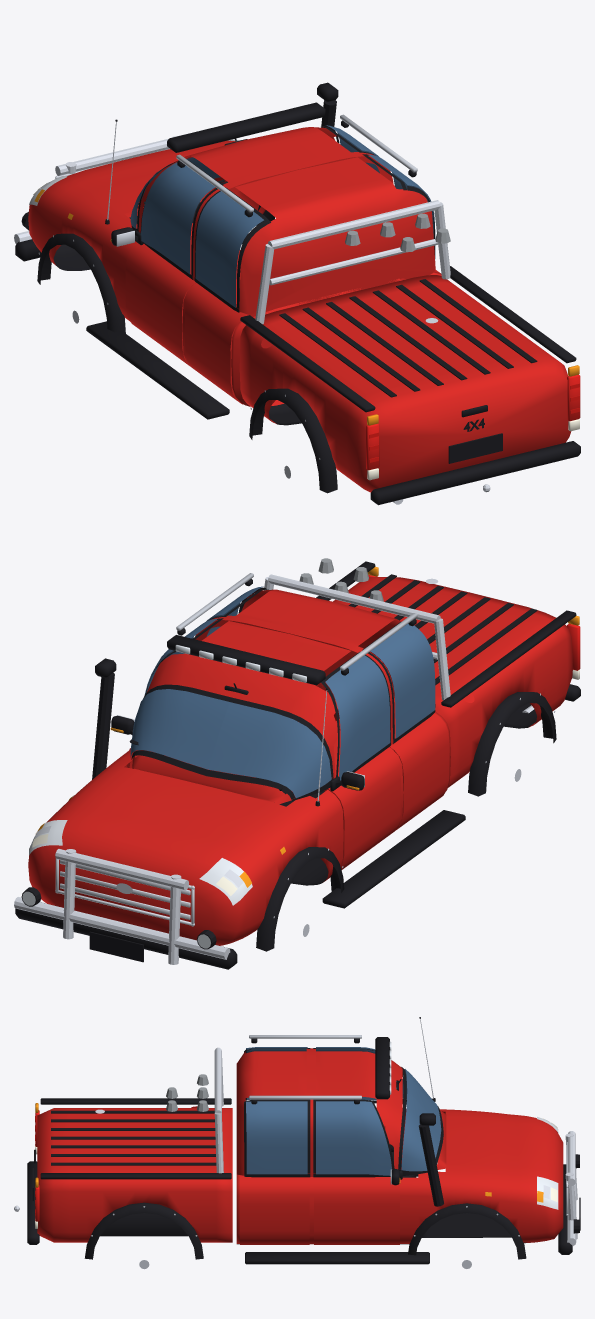
Rendered from veh_hilux.fbx.
3 views of the same model, one above another, from view 1: azimuth 30°, elevation 25°; view 2: azimuth 150°, elevation 25°; view 3: azimuth 270°, elevation 25° (orthographic). The views are drawn at different scales.
Parts seen in each view (by area): view 1: Body, Detail, Door_FL, Door_RL, Door_FL_Glass, Door_RL_Glass, BrakeLights, Var_Load_gas_Tray; view 2: Body, Detail, Glass, Door_FL, Door_FL_Glass, Door_RL, Door_RL_Glass, HeadLights, Var_Load_gas_Tray; view 3: Body, Detail, Door_FR, Door_RR, Door_FR_Glass, Door_RR_Glass, Glass, HeadLights, Var_Load_gas_Tray.
Boxes of the visible parts, x1,y1,x2,y2 form: Body: (28, 127, 571, 492); Detail: (14, 82, 580, 505); Door_FL: (125, 160, 240, 366); Door_RL: (185, 187, 270, 404); Door_FL_Glass: (141, 162, 215, 274); Door_RL_Glass: (195, 191, 263, 307); BrakeLights: (366, 374, 580, 470); Var_Load_gas_Tray: (345, 213, 450, 252); Body: (28, 577, 572, 945); Detail: (14, 561, 580, 969); Glass: (130, 689, 331, 798); Door_FL: (321, 652, 400, 870); Door_FL_Glass: (325, 655, 390, 780); Door_RL: (336, 622, 449, 830); Door_RL_Glass: (370, 623, 435, 738); HeadLights: (29, 820, 252, 905); Var_Load_gas_Tray: (299, 558, 383, 601); Body: (37, 1048, 563, 1244); Detail: (14, 1035, 580, 1264); Door_FR: (313, 1099, 399, 1244); Door_RR: (240, 1099, 310, 1244); Door_FR_Glass: (316, 1101, 392, 1175); Door_RR_Glass: (246, 1101, 307, 1174); Glass: (401, 1069, 441, 1171); HeadLights: (537, 1117, 558, 1209); Var_Load_gas_Tray: (166, 1074, 208, 1111).
Size of what is drawn, in the model's own units: 2.22 by 2.22 by 5.52.
Materials: 1 (1 with a texture image).
